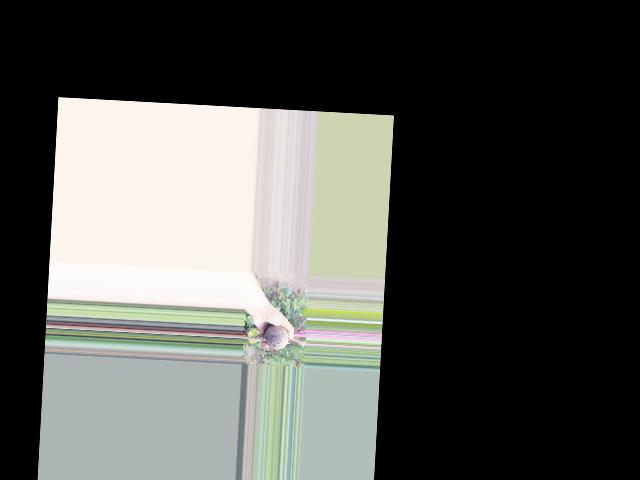beet: (241, 314, 307, 361)
